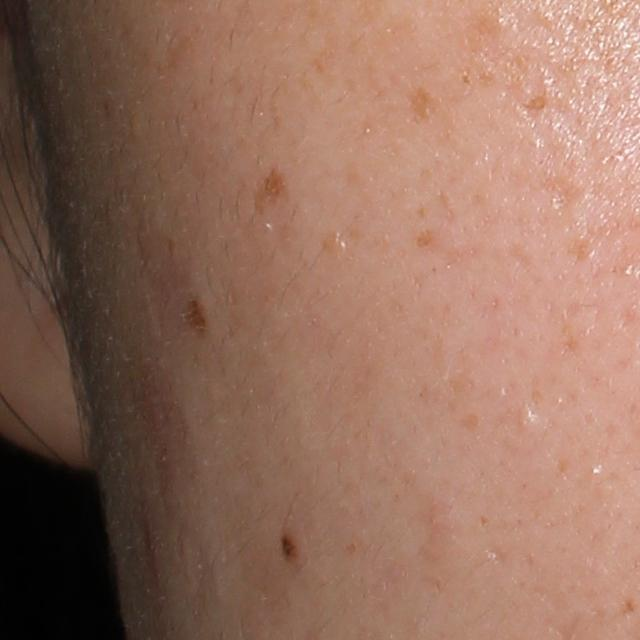atrophic_scar: (529, 174, 592, 267), (484, 547, 510, 565)
comedo: (517, 400, 536, 430)
melasma: (250, 157, 294, 220), (412, 225, 484, 263), (404, 88, 446, 135)
nevus: (280, 529, 297, 564)
